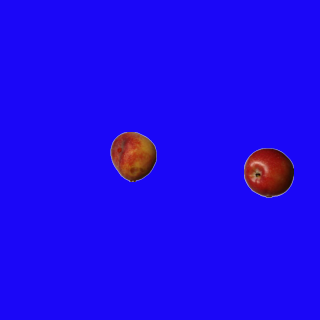Apple Braeburn: (243, 147, 293, 197)
Peach: (108, 131, 158, 181)
